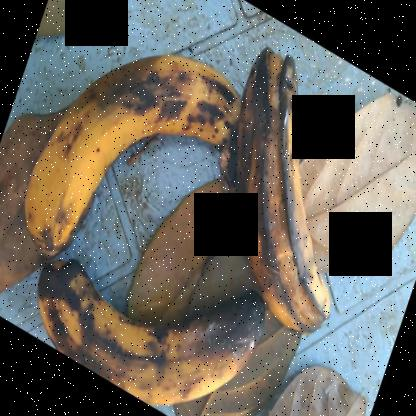overripe: (26, 46, 241, 256), (29, 252, 270, 404)
rotten: (234, 42, 347, 342)
